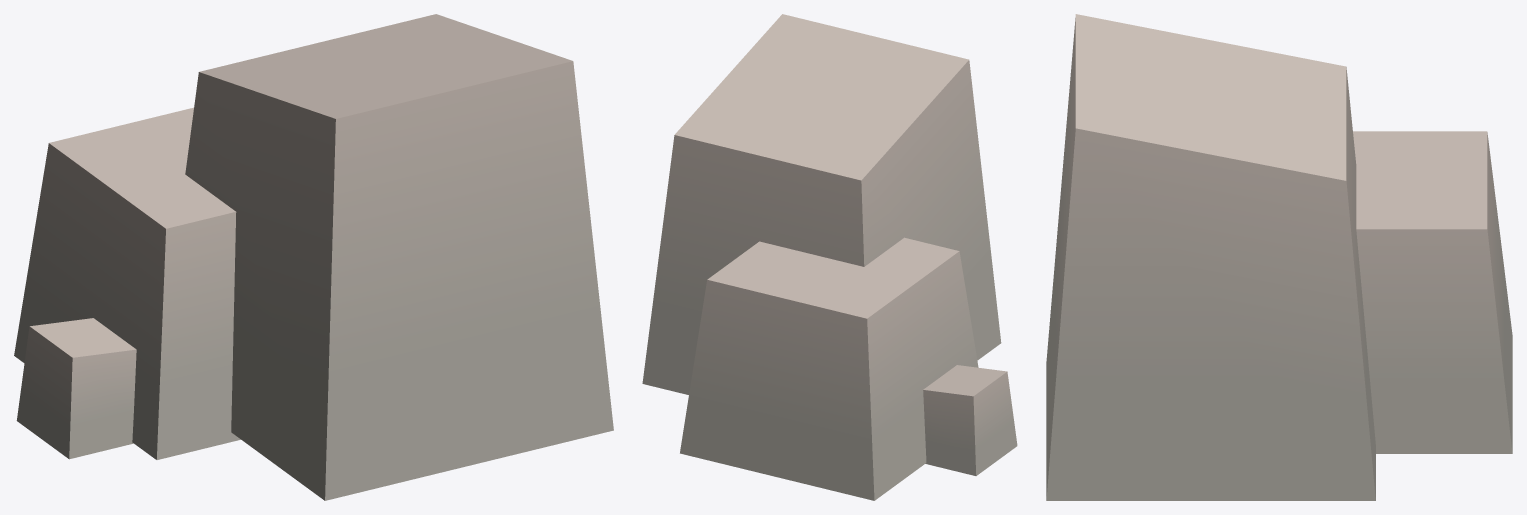
Rendered from [OBJ]Pedra_!.fbx.
3 views of the same model, side by side, from view 1: azimuth 30°, elevation 25°; view 2: azimuth 150°, elevation 25°; view 3: azimuth 270°, elevation 25° (orthographic). The views are drawn at different scales.
Visible parts, largest first — view 1: [OBJ]Pedra.001; view 2: [OBJ]Pedra.001; view 3: [OBJ]Pedra.001.
Part boxes in pixels (<box>): [OBJ]Pedra.001: <box>14,14,613,500</box>; [OBJ]Pedra.001: <box>642,14,1017,500</box>; [OBJ]Pedra.001: <box>1046,14,1512,500</box>.
Bounding box in the file's own units: 35.61 × 29.92 × 34.08.
